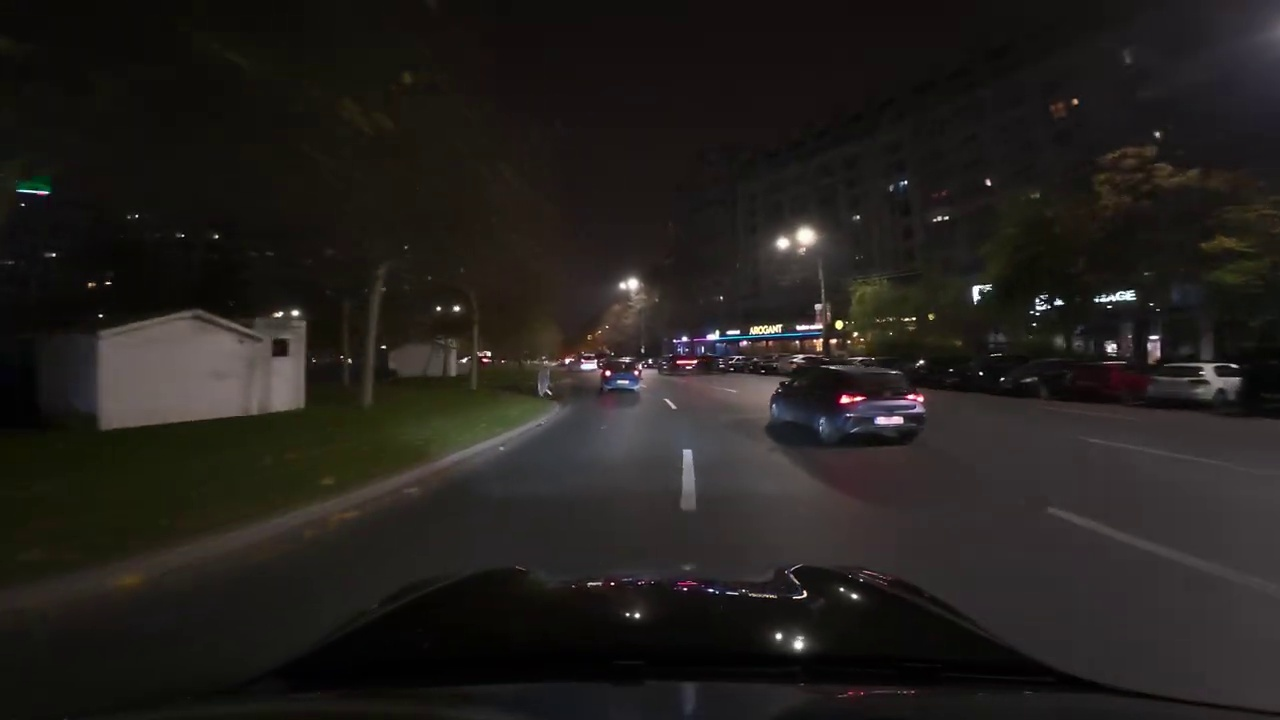acesa: (778, 222, 822, 259), (790, 224, 818, 251), (615, 275, 644, 300)
